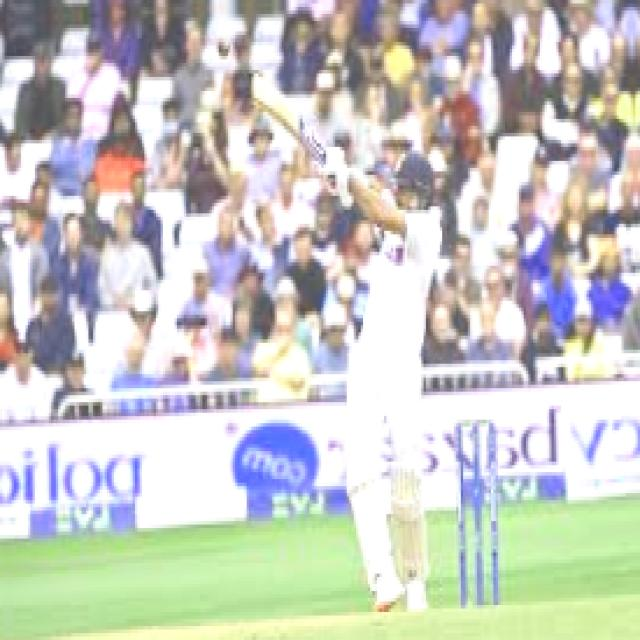toe: (249, 69, 258, 107)
